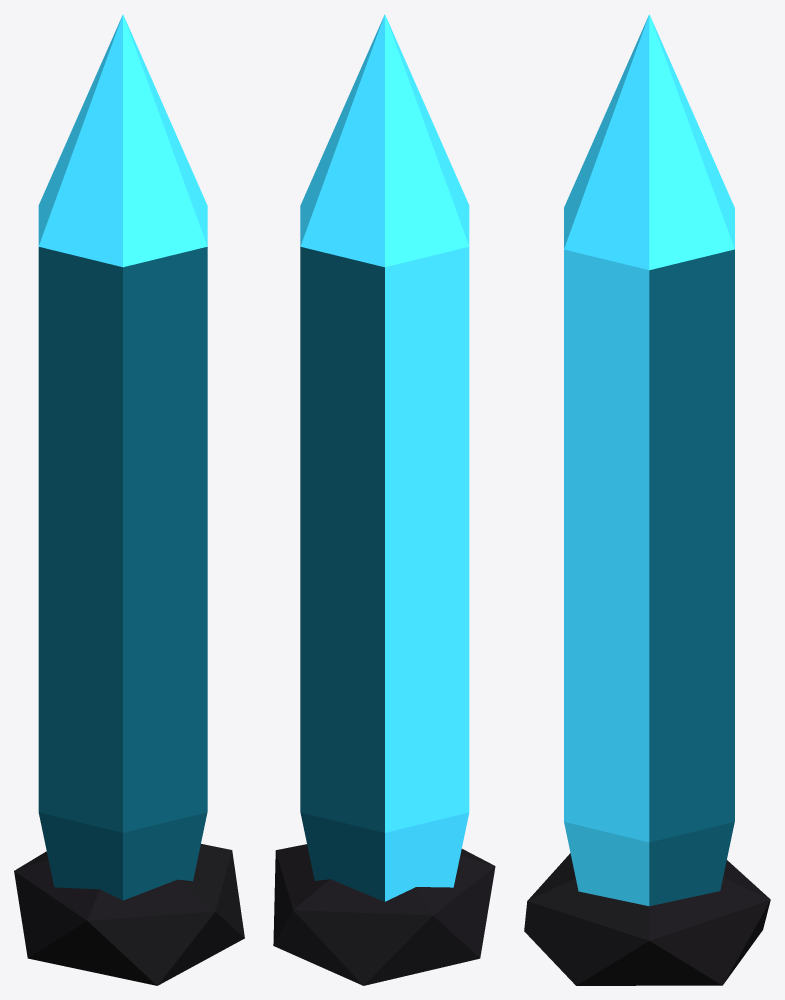
The model's file is SM_Crystal_ShardTall.glb.
3 renders of one model, left to right at view 1: azimuth 30°, elevation 25°; view 2: azimuth 150°, elevation 25°; view 3: azimuth 270°, elevation 25°, orthographic.
Parts seen in each view (by area): view 1: SM_Crystal_ShardTall; view 2: SM_Crystal_ShardTall; view 3: SM_Crystal_ShardTall.
Boxes of the visible parts, bbox=[...] form: SM_Crystal_ShardTall: bbox=[14, 14, 244, 985]; SM_Crystal_ShardTall: bbox=[273, 14, 495, 985]; SM_Crystal_ShardTall: bbox=[524, 14, 770, 985].
Size of the model in its own units: 0.5328 by 2.38 by 0.5501.
1 material, 1 textured.
